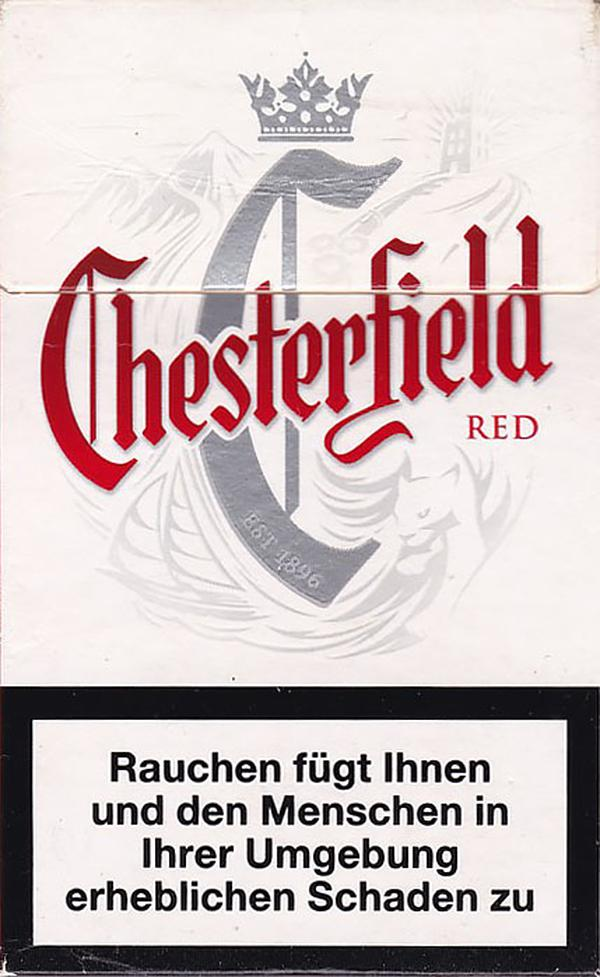chesterfield_red: (3, 5, 595, 970)
